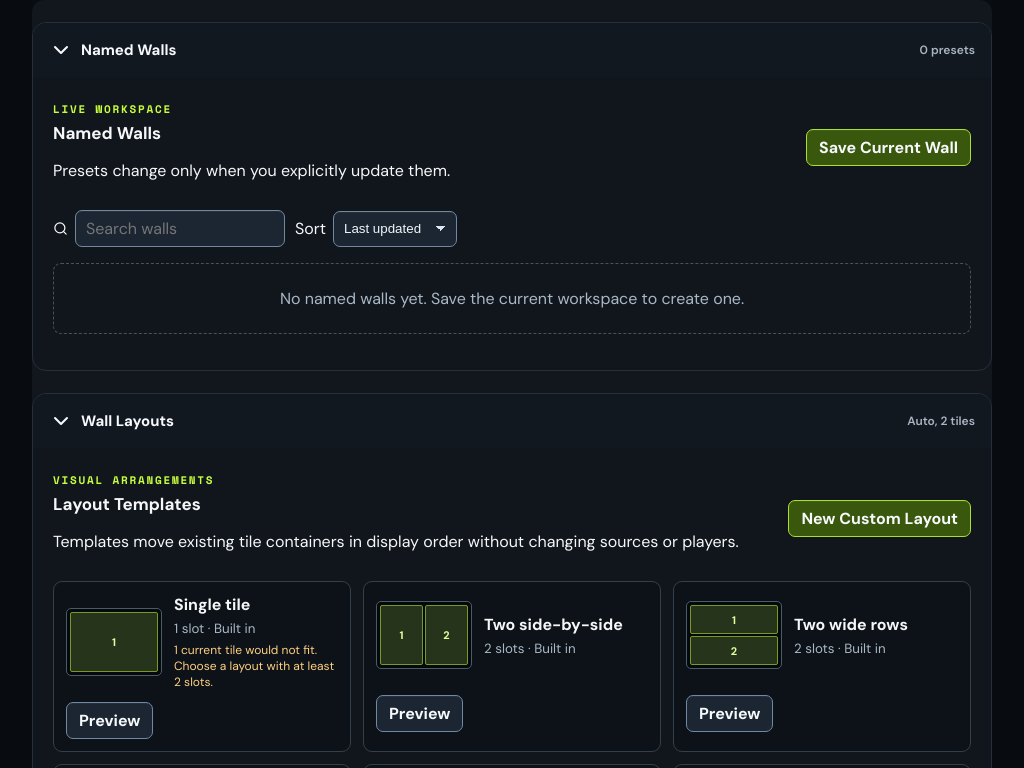
Test case: P3 workspace › requires a layout preview and blocks layouts with too few slots
Click the button "Preview" below "slots.": x=110, y=720 [66,702,153,739]
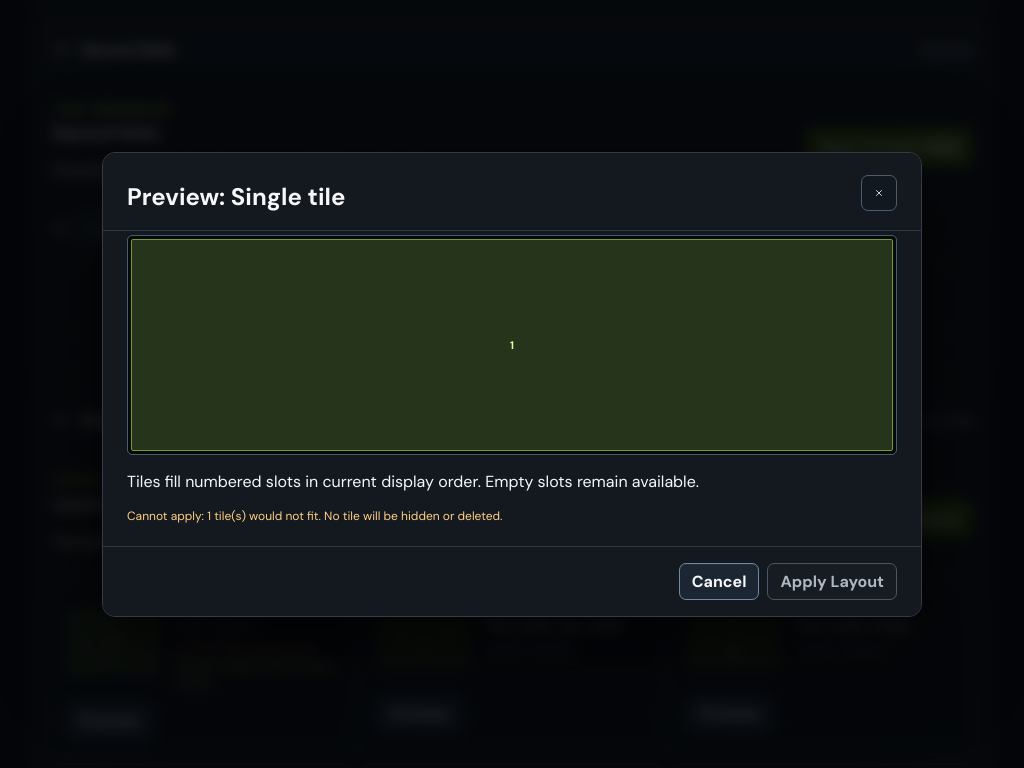
Check: the dialog "Preview: Single tile" is shown, box [102,152,922,616]
Check: the button "Apply Layout" is disabled, box [768,562,897,600]
